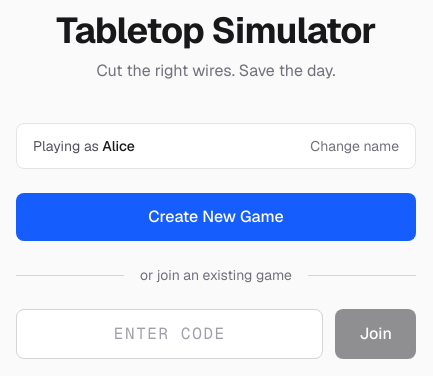
Test: Home (app/page.tsx) › authenticated lobby › join game › sends join_game and connects on click
In the field with placeholder "Enter code": (170, 334) [16, 309, 324, 359], type "abc123"
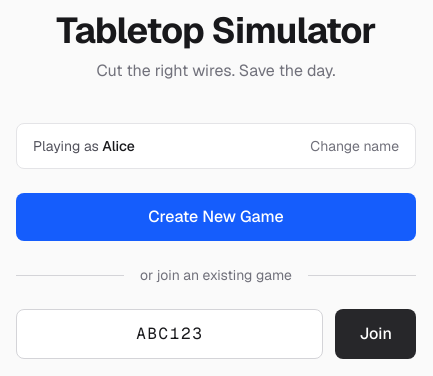
Click the button "Join": click(376, 334) [336, 309, 416, 359]
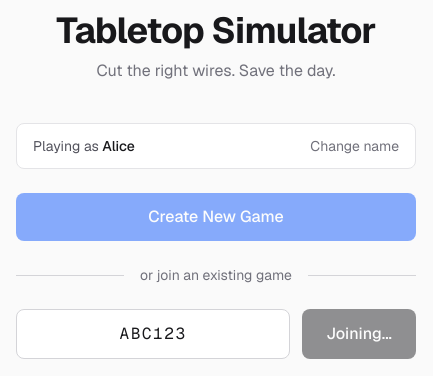
Result: the button "Joining..." is disabled at [302, 309, 416, 359]
